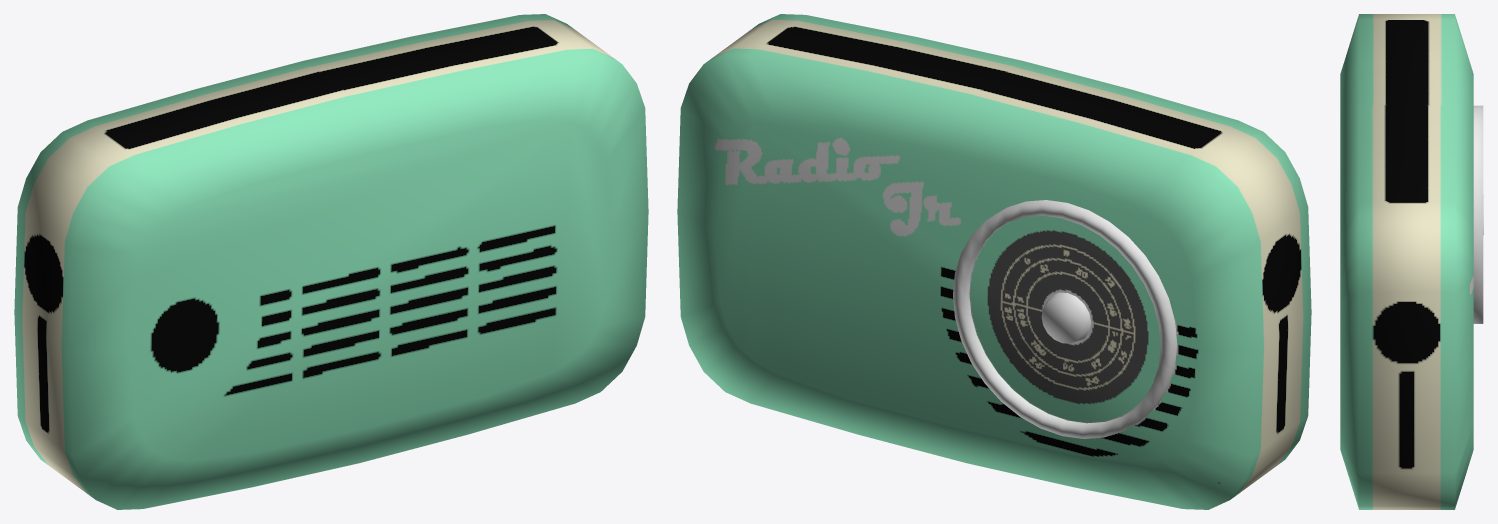
The model's file is Radio Jr.fbx.
3 views of the same model, side by side, from view 1: azimuth 30°, elevation 25°; view 2: azimuth 150°, elevation 25°; view 3: azimuth 270°, elevation 25° (orthographic). The views are drawn at different scales.
Visible parts, largest first — view 1: Radio JR; view 2: Radio JR; view 3: Radio JR.
Boxes of the visible parts, left/top/right/bottom form: Radio JR: left=14, top=14, right=648, bottom=509; Radio JR: left=677, top=14, right=1311, bottom=509; Radio JR: left=1340, top=14, right=1483, bottom=509.
Bounding box in the file's own units: 119 × 71.14 × 29.48.
1 material, 1 textured.
